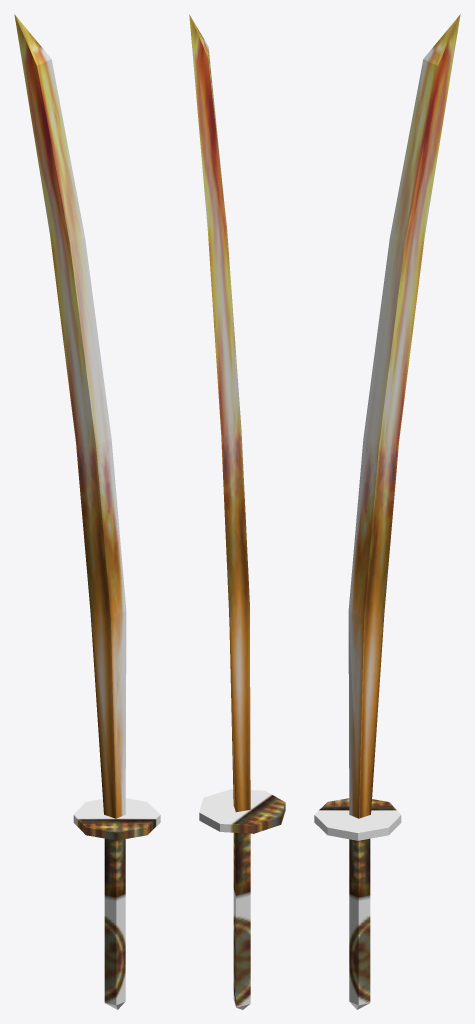
Rendered from blademaster00_3.obj.
3 renders of one model, left to right at view 1: azimuth 90°, elevation 25°; view 2: azimuth 150°, elevation 25°; view 3: azimuth 270°, elevation 25°, orthographic. The views are drawn at different scales.
Visible parts, largest first — view 1: blademaster00_3; view 2: blademaster00_3; view 3: blademaster00_3.
Boxes of the visible parts, x1,y1,x2,y2 form: blademaster00_3: [14, 14, 160, 1009]; blademaster00_3: [189, 14, 285, 1009]; blademaster00_3: [314, 14, 460, 1009].
Size of the model in its own units: 0.1388 by 1.77 by 0.235.
